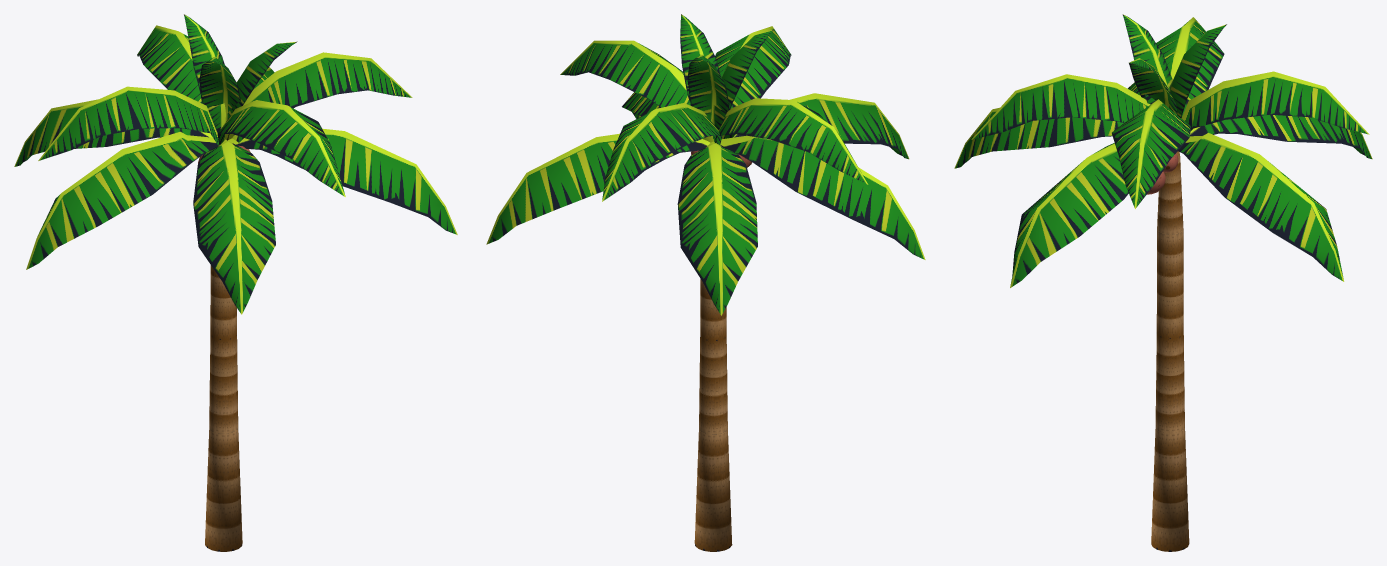
Rendered from CoconutStraitTest.fbx.
3 renders of one model, left to right at view 1: azimuth 30°, elevation 25°; view 2: azimuth 150°, elevation 25°; view 3: azimuth 270°, elevation 25°, orthographic.
Visible parts, largest first — view 1: Coqueiro Reto.002; view 2: Coqueiro Reto.002; view 3: Coqueiro Reto.002.
Part boxes in pixels (x1,y1,x2,y2): Coqueiro Reto.002: (14,14,457,551); Coqueiro Reto.002: (486,14,925,551); Coqueiro Reto.002: (954,14,1372,551).
Bounding box in the file's own units: 1795 × 2328 × 1717.
Materials: 1 (1 with a texture image).
